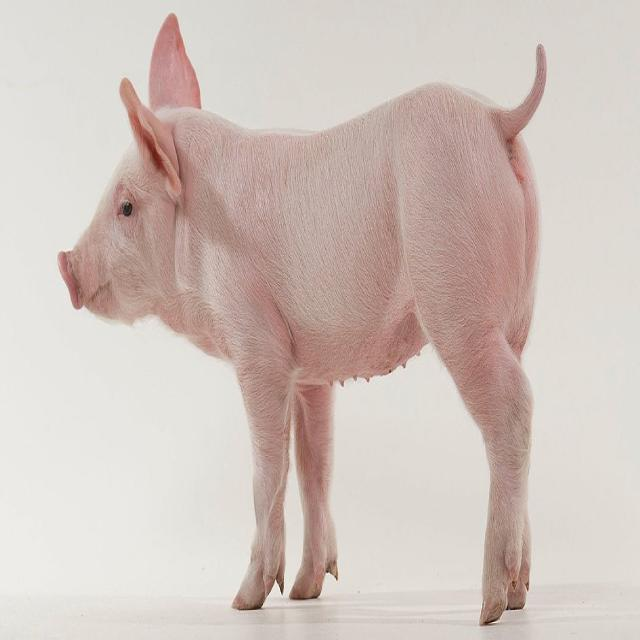Pig: (54, 7, 550, 630)
